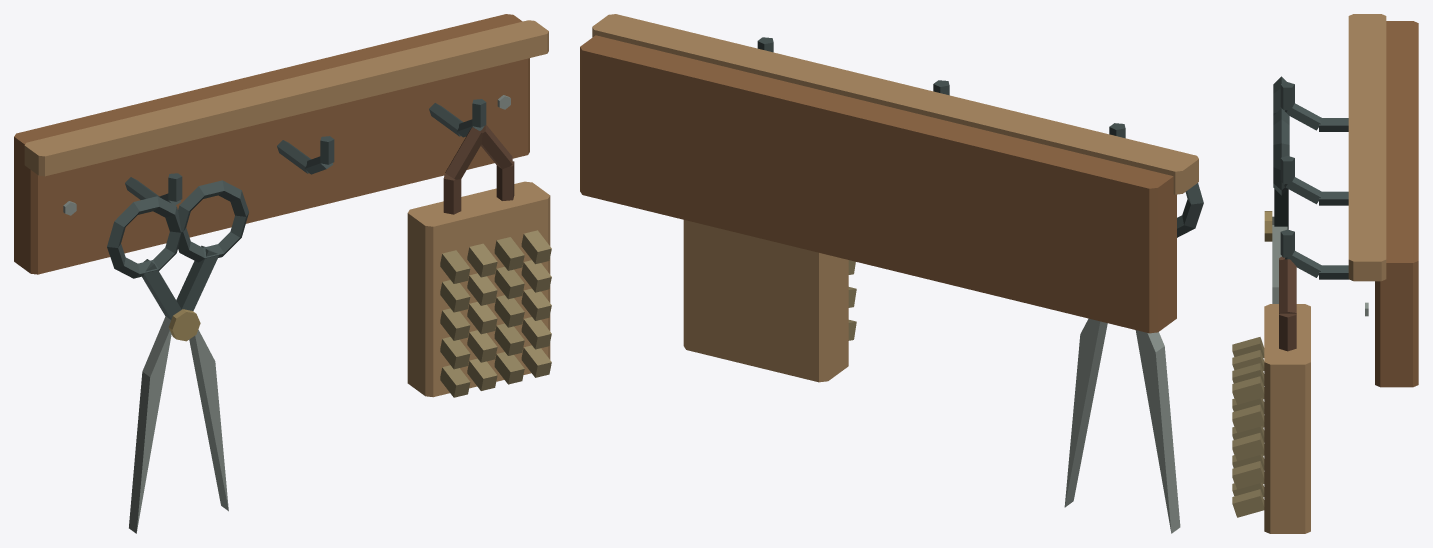
The model's file is tool_hooks.glb.
3 renders of one model, left to right at view 1: azimuth 30°, elevation 25°; view 2: azimuth 150°, elevation 25°; view 3: azimuth 270°, elevation 25°, orthographic. The views are drawn at different scales.
Visible parts, largest first — view 1: geometry; view 2: geometry; view 3: geometry.
Boxes of the visible parts, x1,y1,x2,y2 form: geometry: [14, 14, 551, 533]; geometry: [580, 14, 1203, 533]; geometry: [1232, 14, 1418, 533].
Size of the model in its own units: 0.94 by 0.6375 by 0.2989.
